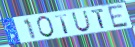1: (23, 18, 39, 41)
E: (106, 3, 130, 30)
O: (36, 15, 56, 38)
T: (91, 8, 107, 30), (54, 13, 70, 35)
U: (71, 10, 92, 33)
